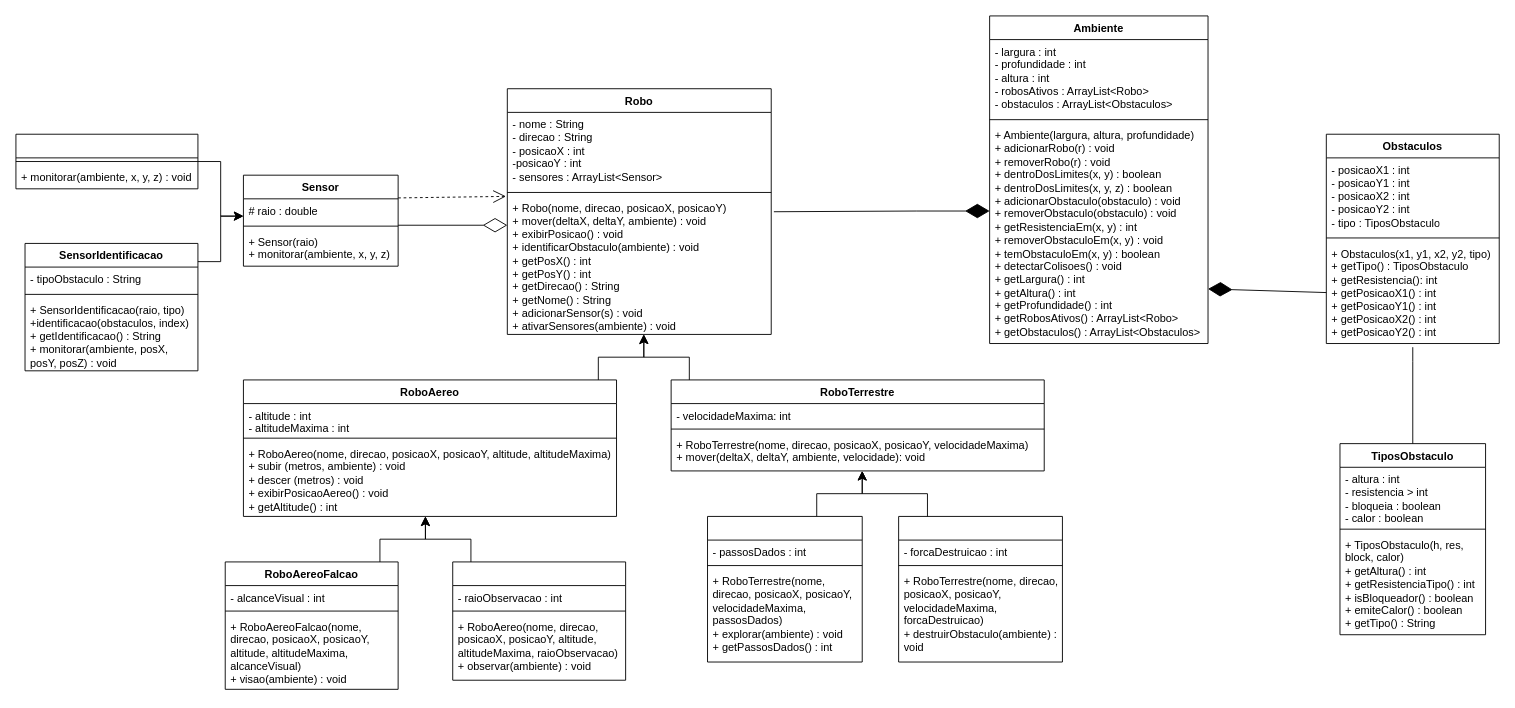
This 1515x708 diagram has some shape labels left out. The box of each missing label's shape, as (x1, y1, x2, y2) in pixels:
RoboAereoObservador: (452, 561, 626, 680)
RoboTerrestreDestruidor: (898, 516, 1062, 662)
RoboTerrestreExplorador: (707, 516, 862, 662)
SensorProximidade: (15, 133, 198, 189)
